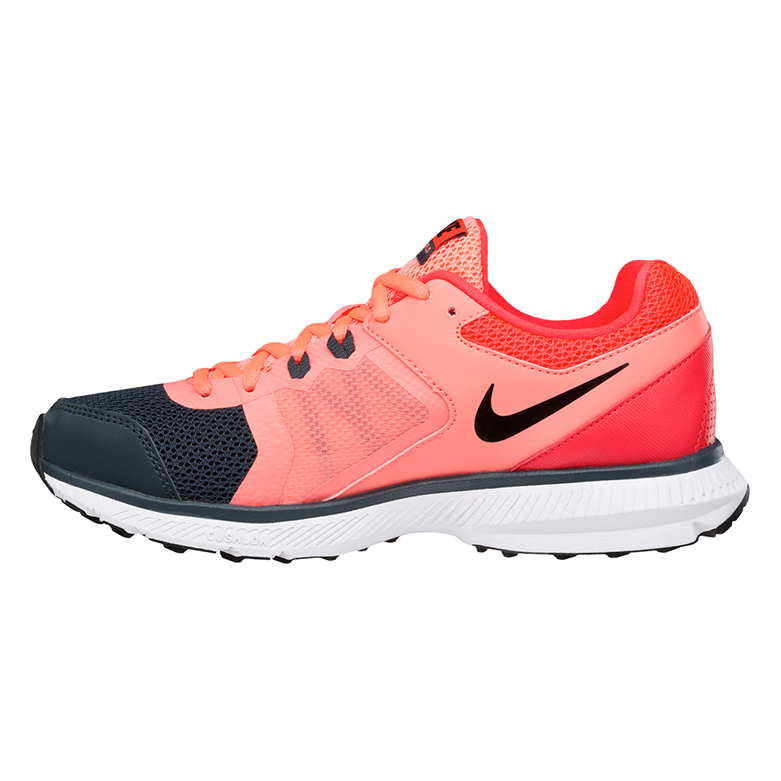Nike: (473, 360, 637, 447)
